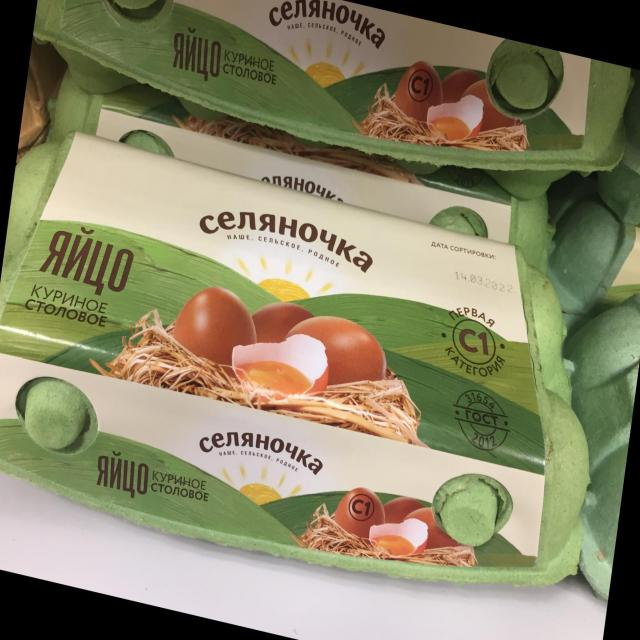organic waste: (0, 113, 633, 640), (26, 0, 640, 228)
